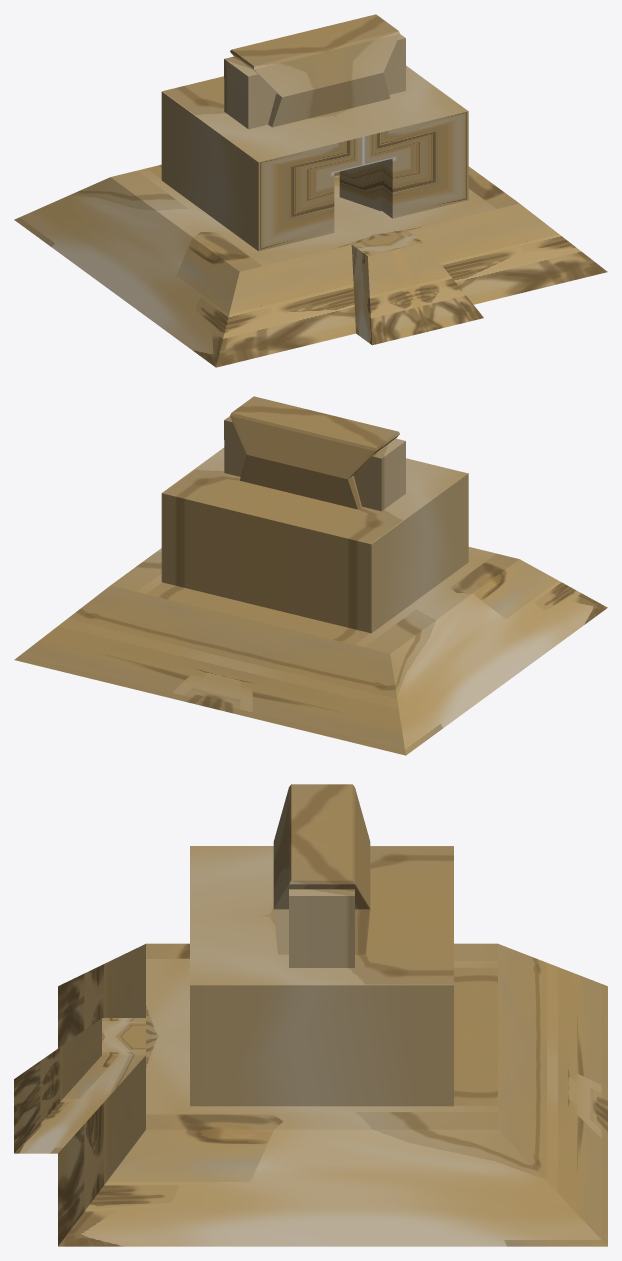
File: temple_prototype_export.obj
3 renders of one model, top to bottom at view 1: azimuth 30°, elevation 25°; view 2: azimuth 150°, elevation 25°; view 3: azimuth 270°, elevation 25°, orthographic. The views are drawn at different scales.
Parts seen in each view (by area): view 1: Cube; view 2: Cube; view 3: Cube.
Part boxes in pixels (left/top/right/bottom): Cube: left=14, top=14, right=607, bottom=367; Cube: left=14, top=396, right=607, bottom=755; Cube: left=14, top=784, right=607, bottom=1246.
Bounding box in the file's own units: 14 × 7.12 × 13.5.
